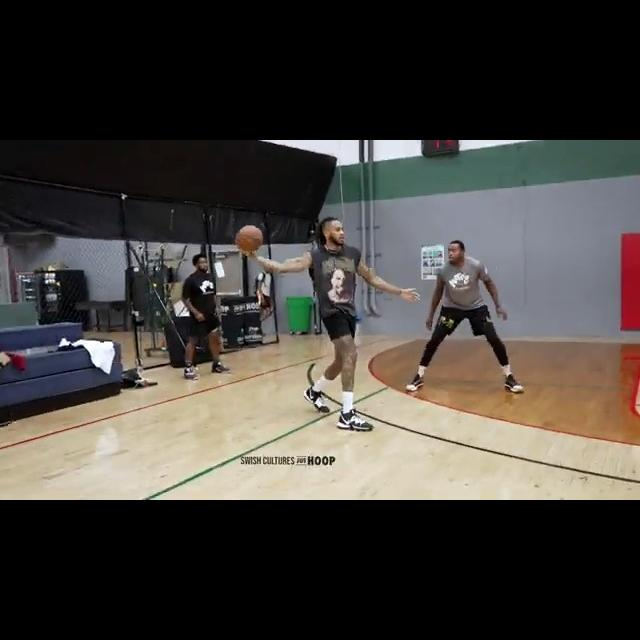basketball: (405, 238, 530, 399), (233, 222, 264, 254)
